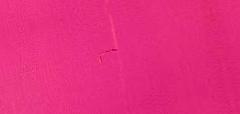snag: (95, 47, 122, 67)
